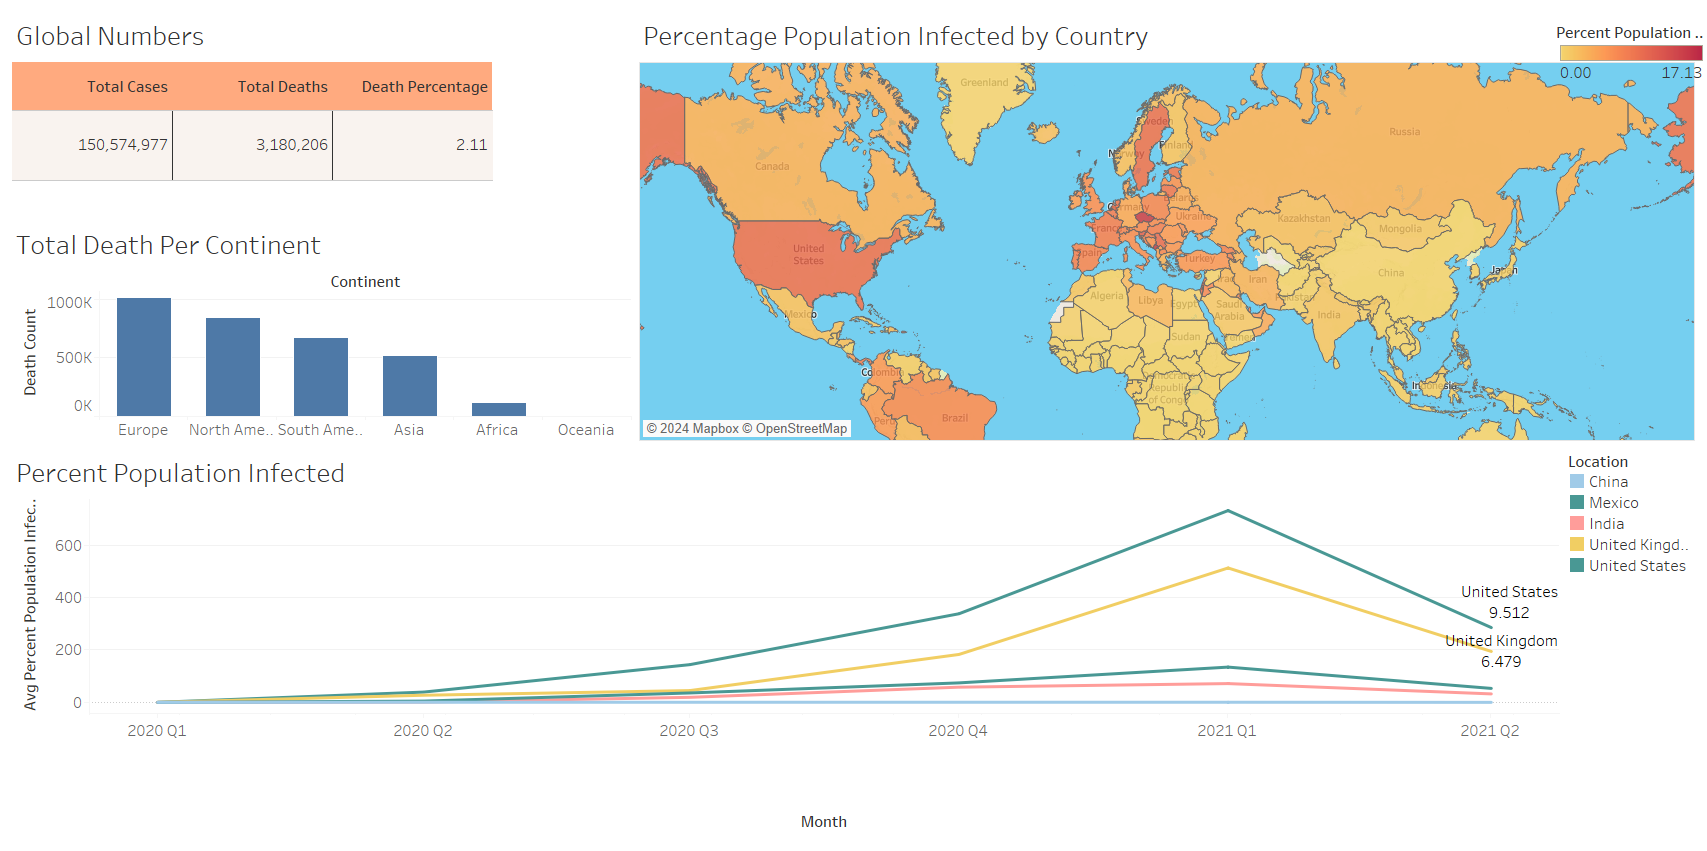

This screenshot's page, from the dashboard's own definition file:
{"tool":"tableau","page":{"name":"Dashboard 1","canvas":[1000,1000],"units":"permille","ordinal":0},"visuals":[{"type":"worksheet","title":"Sheet 1","mark":"Automatic","rows":["price"],"cols":["zipcode"],"box":[4.8,9.4,446.9,490.6]},{"type":"worksheet","title":"Sheet 3","mark":"Automatic","rows":["price (Calendar)"],"cols":["date"],"box":[451.7,9.4,446.9,490.6]},{"type":"legend","title":"Sheet 1","param":"[federated.1kvxyu91x2b05914kxwrw1vp5j8v].[none:zipcode:ok]","box":[898.6,9.4,96.6,447.7]},{"type":"filter","title":"Sheet 2","param":"[federated.1kvxyu91x2b05914kxwrw1vp5j8v].[none:zipcode:ok]","box":[898.6,457.1,96.6,447.7]},{"type":"worksheet","title":"Sheet 2","mark":"Multipolygon","box":[4.8,500,446.9,490.6]},{"type":"worksheet","title":"Sheet 4","mark":"Automatic","rows":["price"],"cols":["bedrooms"],"box":[451.7,500,285.8,490.6]},{"type":"worksheet","title":"Sheet 5","mark":"Automatic","rows":["bedrooms"],"box":[737.5,500,161.1,490.6]},{"type":"legend","title":"Sheet 4","param":"[federated.1kvxyu91x2b05914kxwrw1vp5j8v].[avg:price:qk]","box":[898.6,904.8,96.6,85.8]}]}

Visuals, with their boxes on the dashboard's canvas, which has no fixed pixel size, in thousandths of its width and height (x1, y1, x2, y2). These are canvas units, not pixel positions in the 1707x851 screenshot, which may show the page scaled, cropped or inside an application window:
"Sheet 1" worksheet: <region>5, 9, 452, 500</region>
"Sheet 3" worksheet: <region>452, 9, 899, 500</region>
"Sheet 1" legend: <region>899, 9, 995, 457</region>
"Sheet 2" filter: <region>899, 457, 995, 905</region>
"Sheet 2" worksheet (Multipolygon marks): <region>5, 500, 452, 991</region>
"Sheet 4" worksheet: <region>452, 500, 738, 991</region>
"Sheet 5" worksheet: <region>738, 500, 899, 991</region>
"Sheet 4" legend: <region>899, 905, 995, 991</region>
